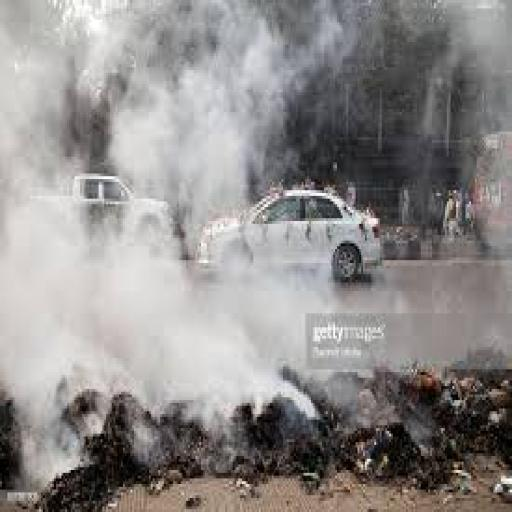smoke: (13, 160, 305, 450), (2, 3, 292, 260)
